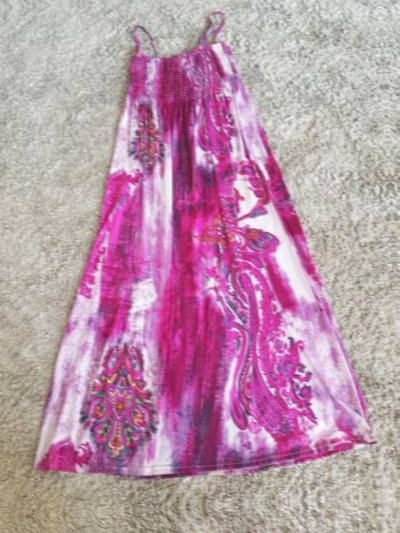Dress: (0, 8, 386, 488), (29, 525, 400, 533)
